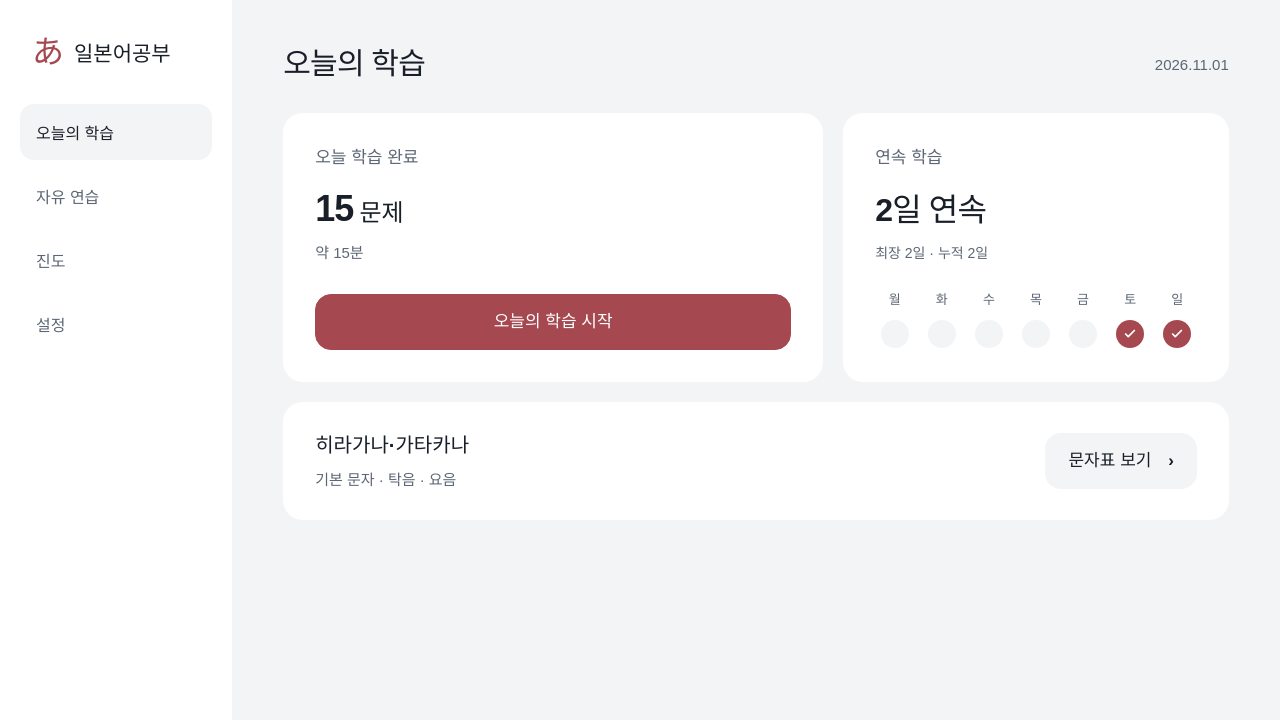
Test: app navigation › shows the current streak and progress screen
This screenshot has width=1280, height=720.
Expected: the text "2일 연속" is shown, top-left (875, 192), bottom-right (986, 228)
Click the button "진도". click: [116, 260]
box: top-left (20, 232), bottom-right (212, 288)
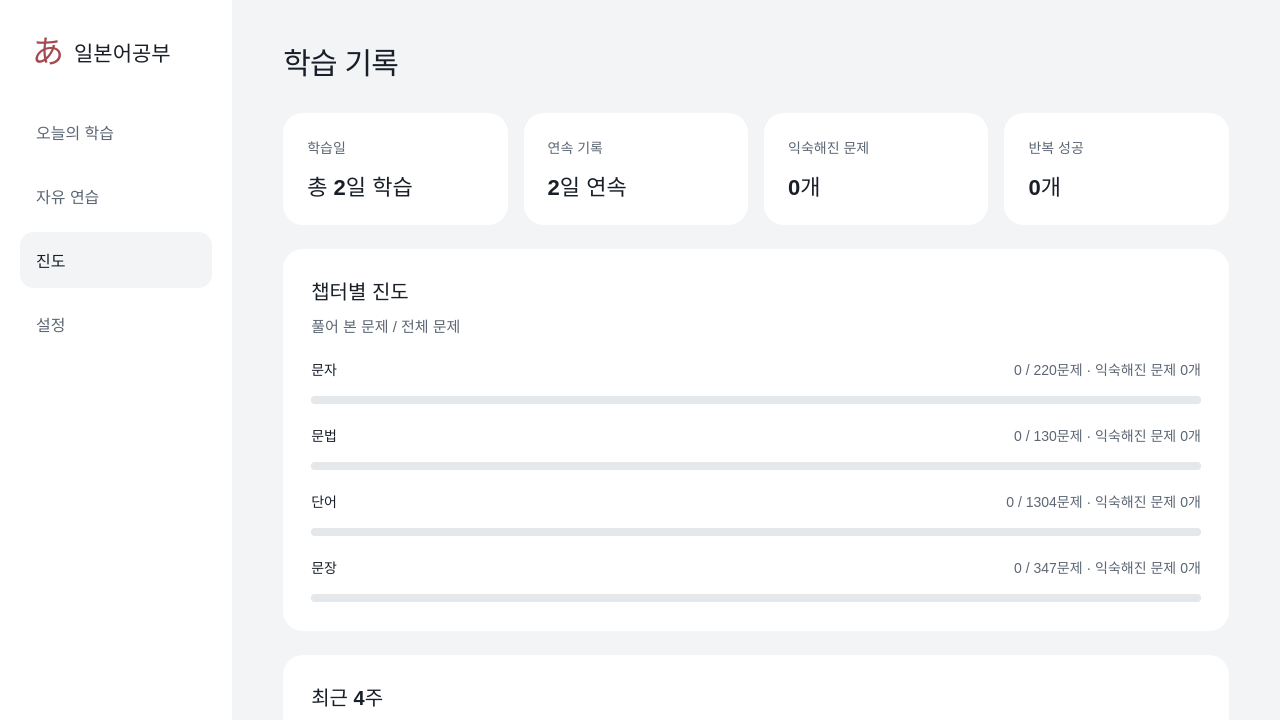
Expected: the heading "학습 기록" is shown, top-left (283, 47), bottom-right (398, 80)
Expected: the text "총 2일 학습" is shown, top-left (307, 174), bottom-right (413, 200)
